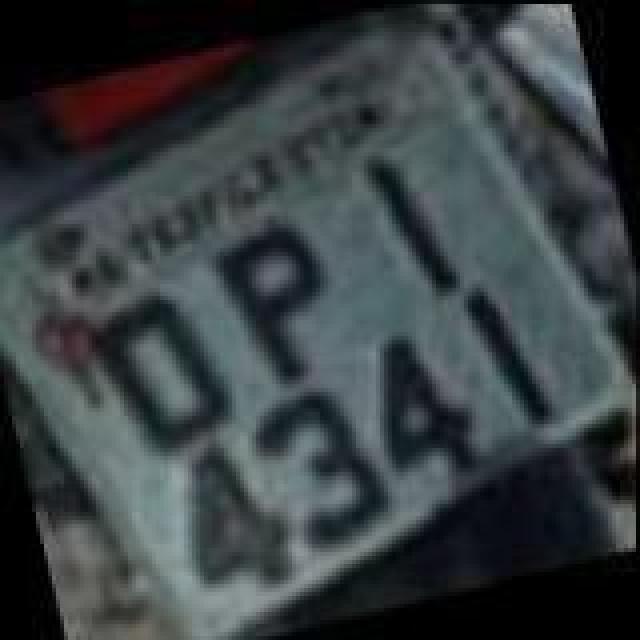1: (354, 134, 466, 302), (450, 270, 554, 438)
3: (250, 372, 402, 560)
4: (164, 434, 308, 610), (354, 310, 490, 494)
O: (80, 272, 244, 464)
P: (210, 214, 354, 398)
